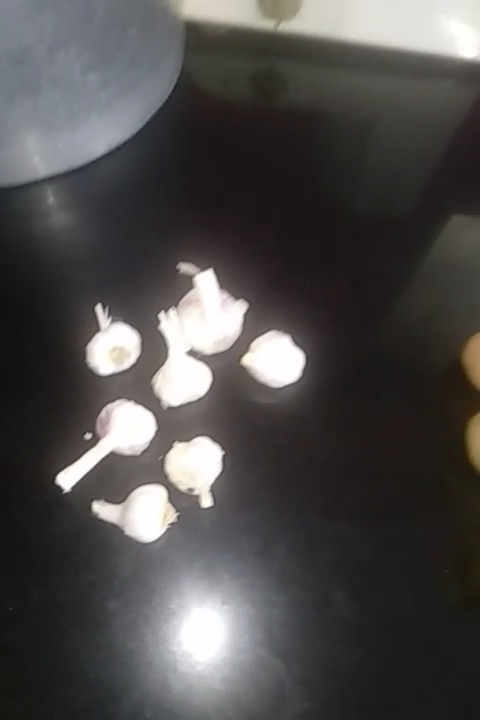garlic: (62, 401, 155, 494), (176, 254, 244, 361), (156, 309, 213, 413), (85, 483, 179, 542), (236, 326, 312, 398), (162, 433, 233, 506), (83, 299, 141, 373)
